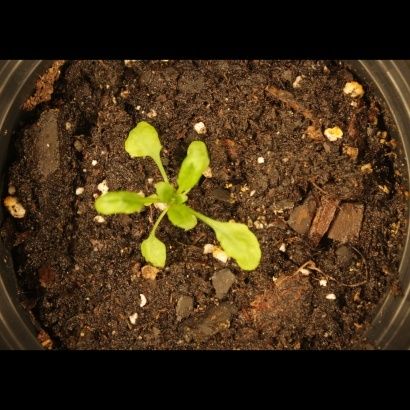leaf: (205, 216, 272, 277), (118, 117, 172, 169), (177, 136, 215, 195), (91, 184, 151, 219), (137, 226, 175, 275), (164, 200, 200, 236), (155, 177, 178, 204)
